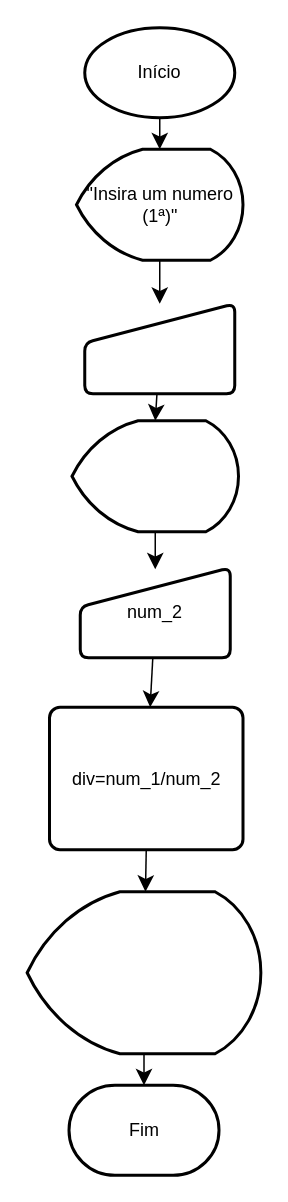
The diagram is 288 pixels wide and 1202 high, and some of its shapes have lost their labels. The shapes that lost their labels are listed below. From the top down, each one's box as (x1, y1, x2, y2) in pixels, then its label:
(82, 302, 236, 394): num_1
(70, 418, 239, 532): "Insira um numero (2ª)"
(25, 890, 262, 1054): "A divisão entre os número informados (1) e (2) é ",div
